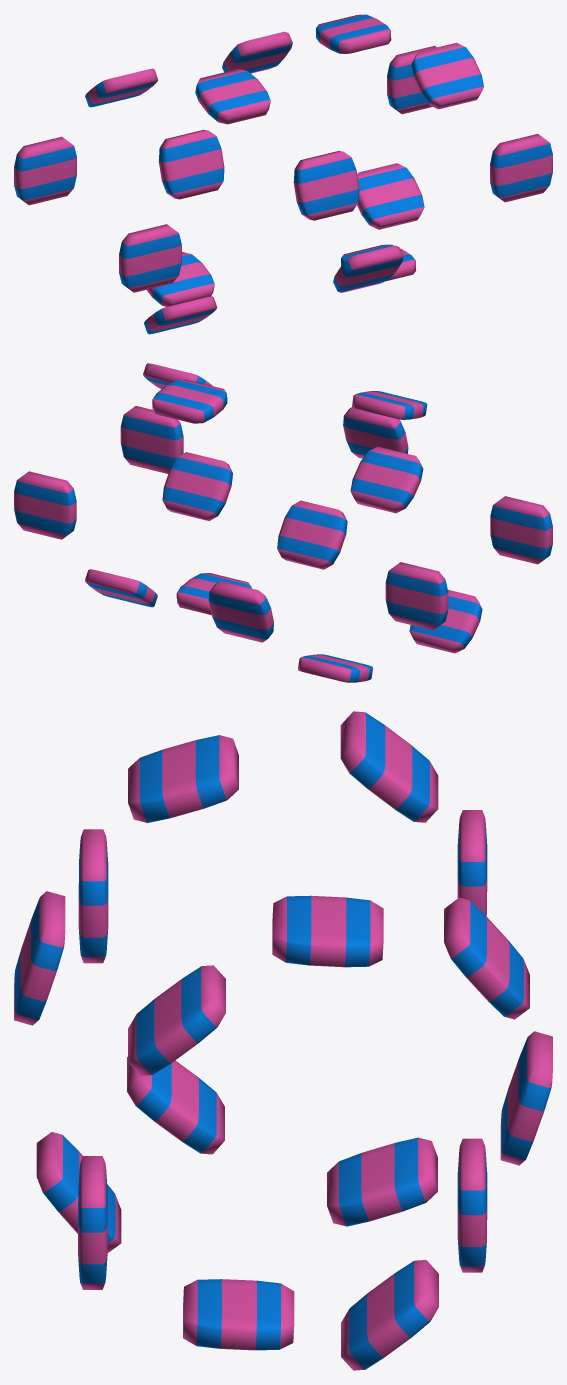
File: spiral.glb
3 views of the same model, one above another, from view 1: azimuth 30°, elevation 25°; view 2: azimuth 150°, elevation 25°; view 3: azimuth 270°, elevation 25° (orthographic). The views are drawn at different scales.
Parts seen in each view (by area): view 1: Cube.017, Cube.019, Cube.023, Cube.013, Cube.009, Cube.011, Cube.020, Cube.024, Cube.025, Cube.015, Cube.018, Cube.021 (+4 smaller); view 2: Cube.015, Cube.018, Cube.026, Cube.011, Cube.013, Cube.010, Cube.009, Cube.019, Cube.025, Cube.014, Cube.017, Cube.020 (+4 smaller); view 3: Cube.022, Cube.025, Cube.024, Cube.021, Cube.026, Cube.023, Cube.020, Cube.018, Cube.014, Cube.019, Cube.017, Cube.015 (+4 smaller).
Boxes of the visible parts, box(x1,y1,x2,y2) form: Cube.017: box(293, 151, 359, 220); Cube.019: box(158, 129, 224, 199); Cube.023: box(411, 42, 483, 109); Cube.013: box(119, 224, 181, 292); Cube.009: box(490, 134, 552, 202); Cube.011: box(14, 136, 76, 205); Cube.020: box(357, 163, 424, 229); Cube.024: box(195, 69, 270, 124); Cube.025: box(316, 14, 391, 53); Cube.015: box(333, 245, 403, 292); Cube.018: box(222, 31, 292, 73); Cube.021: box(146, 252, 214, 306); Cube.015: box(277, 500, 347, 569); Cube.018: box(162, 452, 232, 520); Cube.026: box(350, 446, 423, 513); Cube.011: box(385, 562, 448, 630); Cube.013: box(490, 496, 552, 564); Cube.010: box(14, 471, 76, 539); Cube.009: box(120, 406, 183, 473); Cube.019: box(208, 581, 273, 642); Cube.025: box(152, 379, 227, 423); Cube.014: box(409, 589, 482, 653); Cube.017: box(343, 407, 408, 458); Cube.020: box(85, 569, 157, 607); Cube.022: box(183, 1279, 294, 1350); Cube.025: box(272, 895, 383, 967); Cube.024: box(128, 735, 238, 822); Cube.021: box(327, 1137, 437, 1226); Cube.026: box(340, 711, 438, 822); Cube.023: box(128, 965, 225, 1075); Cube.020: box(341, 1260, 438, 1370); Cube.018: box(444, 897, 529, 1019); Cube.014: box(127, 1057, 224, 1154); Cube.019: box(500, 1031, 552, 1165); Cube.017: box(14, 891, 65, 1025); Cube.015: box(36, 1132, 121, 1252).
Size of what is drawn, in the model's own units: 16.2 by 8.99 by 9.73.
Materials: 1 (1 with a texture image).
